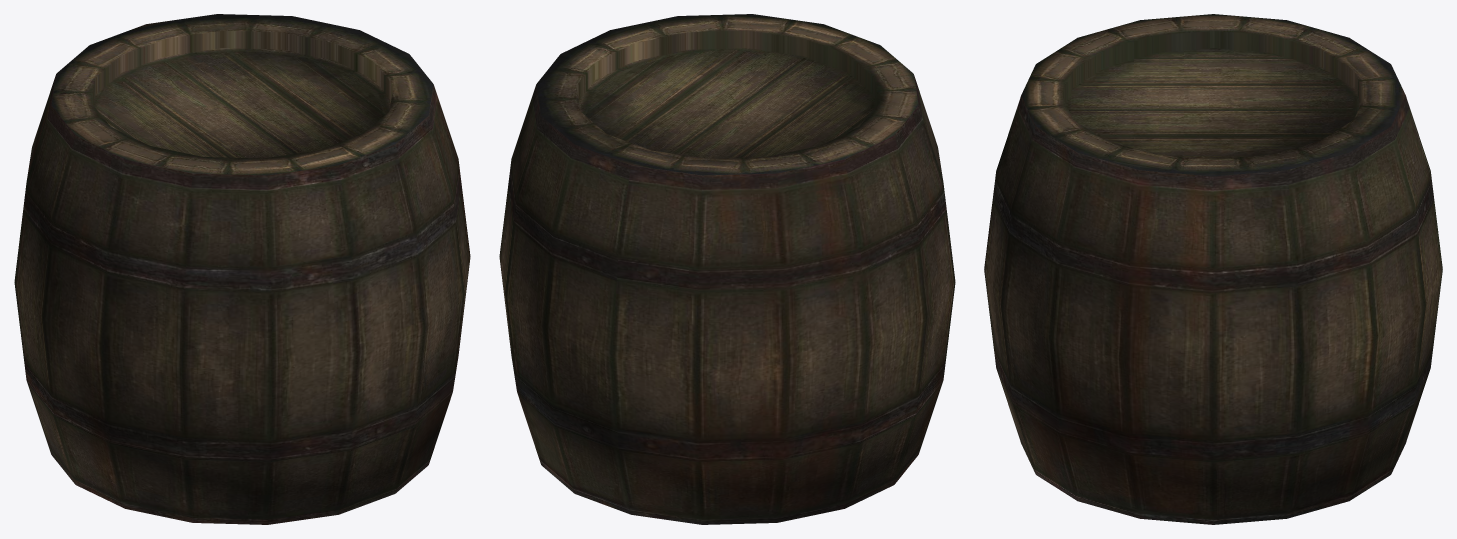
File: Barril.fbx
3 renders of one model, left to right at view 1: azimuth 30°, elevation 25°; view 2: azimuth 150°, elevation 25°; view 3: azimuth 270°, elevation 25°, orthographic.
Parts seen in each view (by area): view 1: Barril; view 2: Barril; view 3: Barril.
Boxes of the visible parts, left/top/right/bottom form: Barril: left=14, top=14, right=470, bottom=524; Barril: left=499, top=14, right=955, bottom=524; Barril: left=984, top=14, right=1442, bottom=524.
Size of the model in its own units: 274 by 230 by 274.
Materials: 1 (1 with a texture image).
